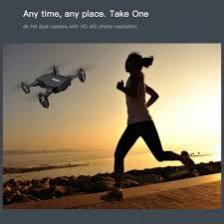drone: (15, 60, 93, 108)
